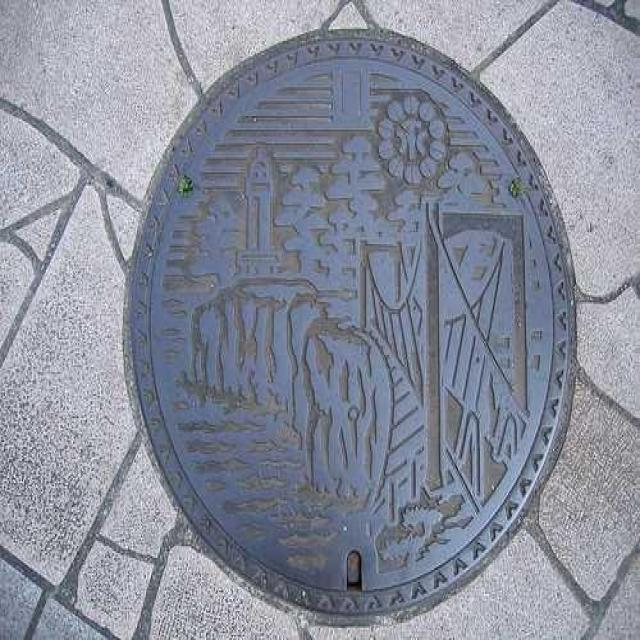manhole: (129, 32, 575, 622)
